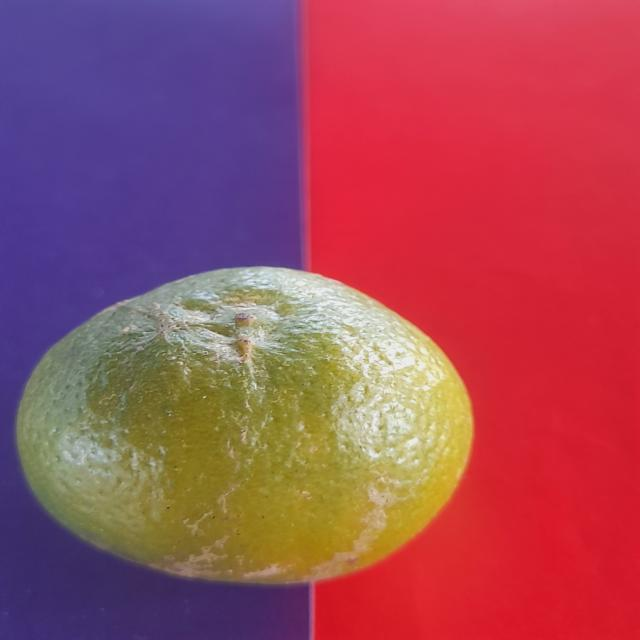thrips: (13, 266, 484, 590)
